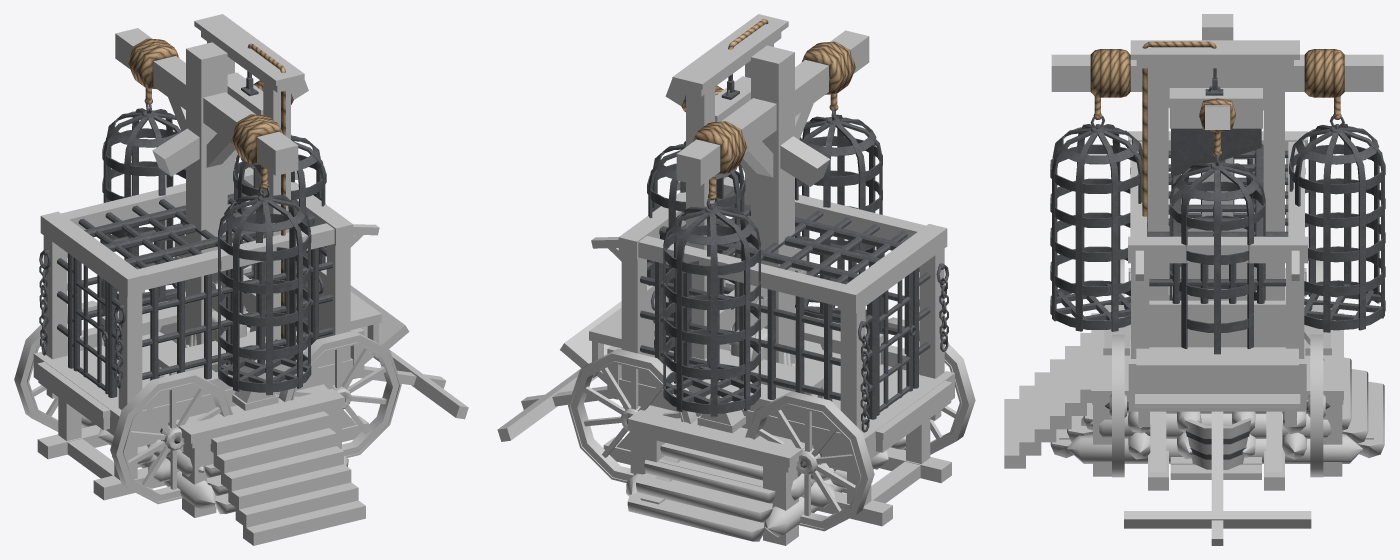
File: punishment.fbx
The picture shows the model from 3 angles, left to right: view 1: azimuth 30°, elevation 25°; view 2: azimuth 150°, elevation 25°; view 3: azimuth 270°, elevation 25°; orthographic projection. The views are drawn at different scales.
Visible parts, largest first — view 1: bottom, stand, cage, bars, guillotine.002, wheels, beams, LOD_012_Cage_5, rope, logs, cage.001, hitch (+3 smaller); view 2: bottom, cage, bars, guillotine.002, wheels, beams, logs, stand, LOD_012_Cage_5, rope, cage.001, beams.001 (+2 smaller); view 3: bottom, cage, guillotine.002, stand, logs, cage.001, beams, LOD_012, hitch, bars, wheels, rope (+5 smaller).
Part boxes in pixels (left/top/right/bottom): bottom: left=33, top=166, right=409, bottom=449; stand: left=168, top=384, right=365, bottom=545; cage: left=102, top=102, right=311, bottom=395; bars: left=57, top=179, right=332, bottom=397; guillotine.002: left=37, top=14, right=368, bottom=500; wheels: left=14, top=265, right=401, bottom=504; beams: left=112, top=28, right=298, bottom=467; LOD_012_Cage_5: left=39, top=171, right=379, bottom=443; rope: left=128, top=38, right=282, bottom=189; logs: left=81, top=414, right=348, bottom=514; cage.001: left=233, top=134, right=326, bottom=332; hitch: left=360, top=349, right=468, bottom=419; bottom: left=560, top=176, right=954, bottom=474; cage: left=663, top=109, right=882, bottom=416; bars: left=640, top=190, right=930, bottom=419; guillotine.002: left=603, top=14, right=952, bottom=526; wheels: left=568, top=280, right=975, bottom=531; beams: left=676, top=30, right=872, bottom=493; logs: left=626, top=436, right=905, bottom=541; stand: left=627, top=405, right=934, bottom=545; LOD_012_Cage_5: left=591, top=181, right=949, bottom=467; rope: left=693, top=41, right=855, bottom=200; cage.001: left=647, top=141, right=745, bottom=350; beams.001: left=665, top=79, right=829, bottom=186; bottom: left=1128, top=131, right=1307, bottom=426; cage: left=1050, top=115, right=1385, bottom=332; guillotine.002: left=1059, top=40, right=1373, bottom=490; stand: left=1004, top=313, right=1343, bottom=476; logs: left=1050, top=357, right=1384, bottom=463; cage.001: left=1169, top=154, right=1265, bottom=354; beams: left=1051, top=14, right=1383, bottom=278; LOD_012: left=1142, top=41, right=1261, bottom=479; hitch: left=1124, top=411, right=1311, bottom=545; bars: left=1147, top=144, right=1288, bottom=303; wheels: left=1109, top=259, right=1325, bottom=477; rope: left=1090, top=49, right=1344, bottom=119.
Size of what is drawn, in the model's own units: 406 by 493 by 481.
